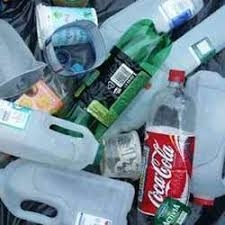plastic: (21, 16, 174, 159), (1, 154, 136, 225), (1, 95, 112, 173), (140, 68, 196, 222), (30, 2, 99, 48), (97, 128, 147, 183)
